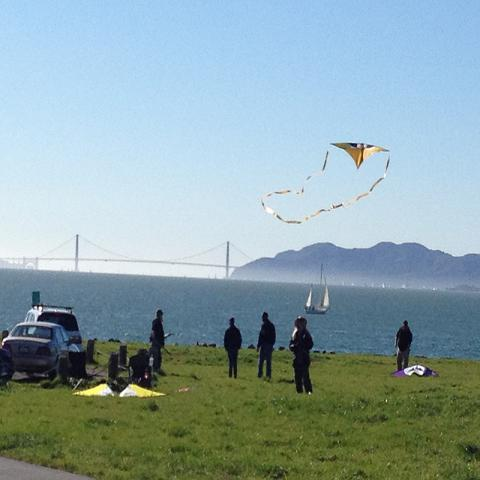car: (2, 320, 81, 383), (24, 303, 84, 354)
